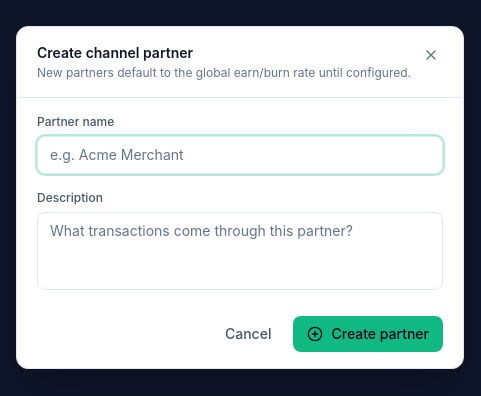
Scenario: CreatePartnerModal › validates that partner name is required
Click the button "Create partner".
click(368, 334)  # box [294, 316, 443, 352]
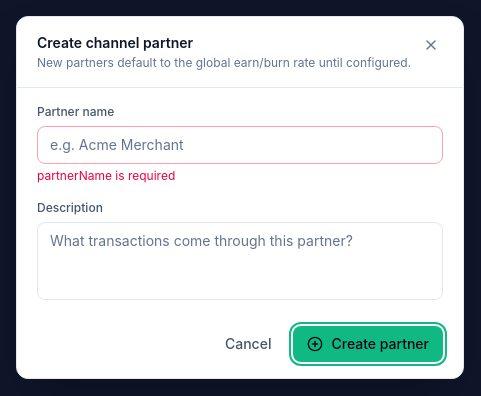
Now the text "partnerName is required" is shown, box [37, 168, 175, 182]
